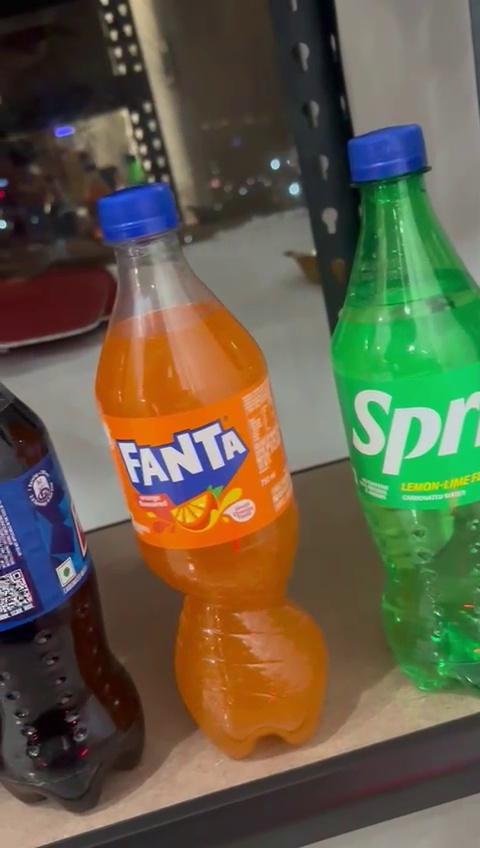Fanta: (85, 181, 339, 764)
